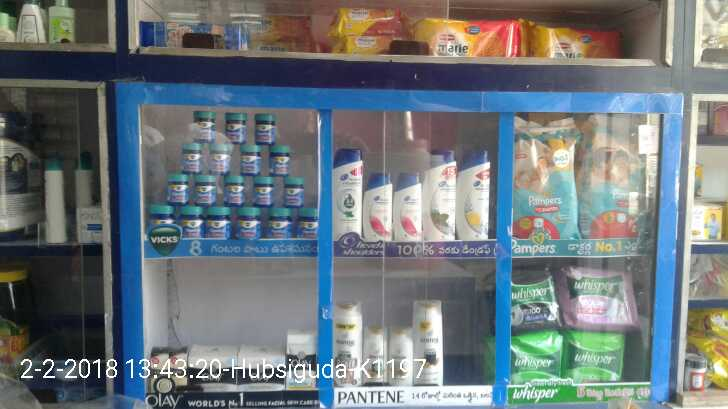vicks: (145, 108, 322, 236)
